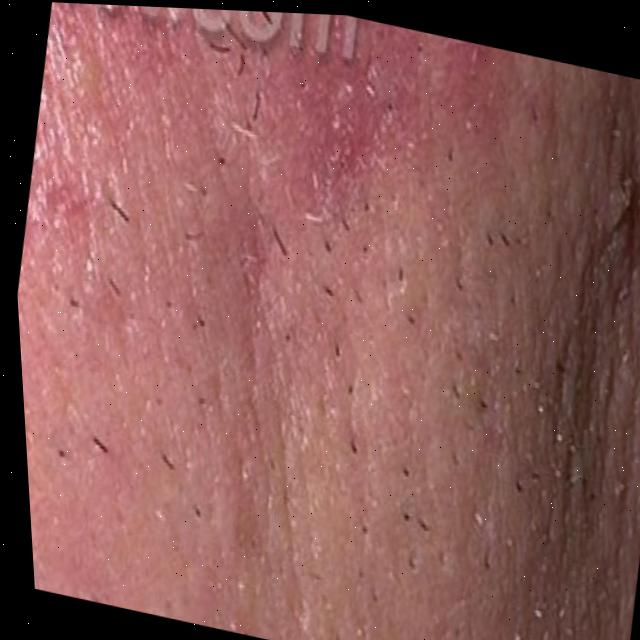Rosacea: (259, 12, 448, 206)
